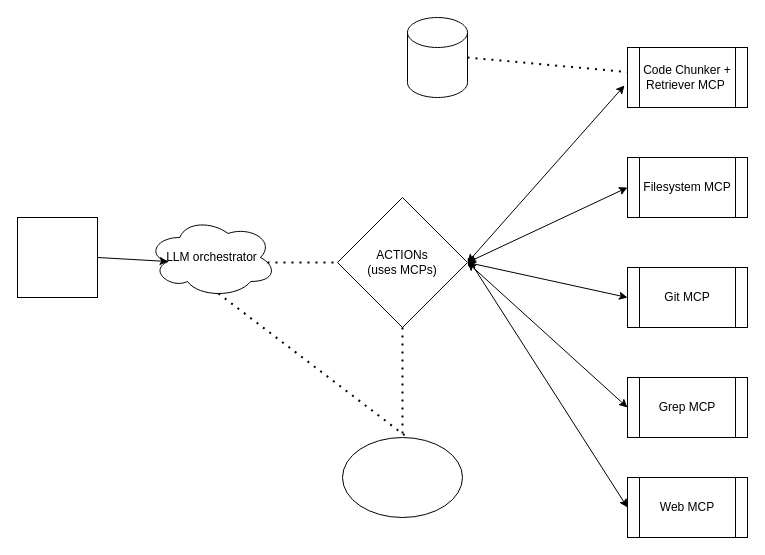
The diagram is 765 pixels wide and 555 high, and some of its shapes have lost their labels. The shapes that lost their labels are listed below. From the top down, each one's centre as x and y in pixels, then its label:
At point (437, 57): "Index DB".
At point (57, 257): "Code File </>".
At point (402, 477): "OUTPUT".
